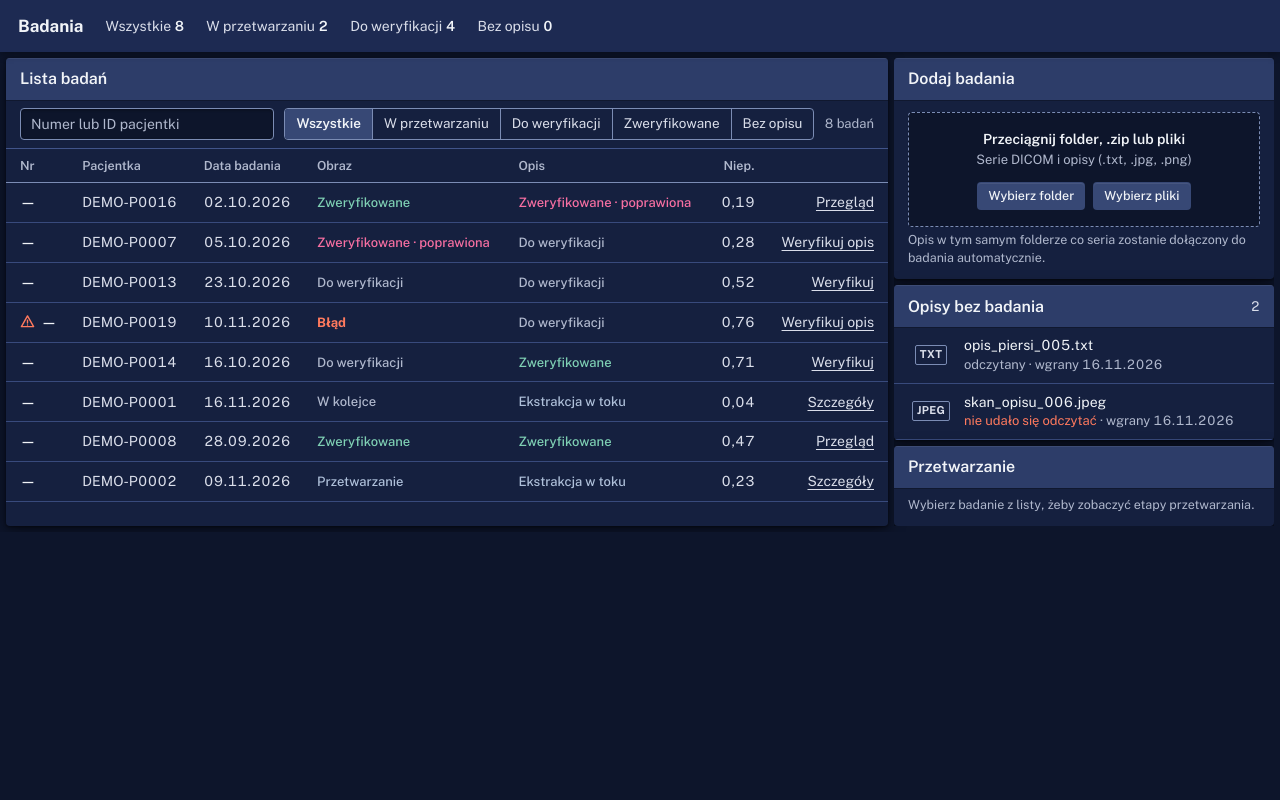
Test: StudiesPage › offers the radiologist another reading only after a failed one
Click the text "opis_piersi_005.txt" at {"x": 1029, "y": 345}, box [964,337,1093,353]
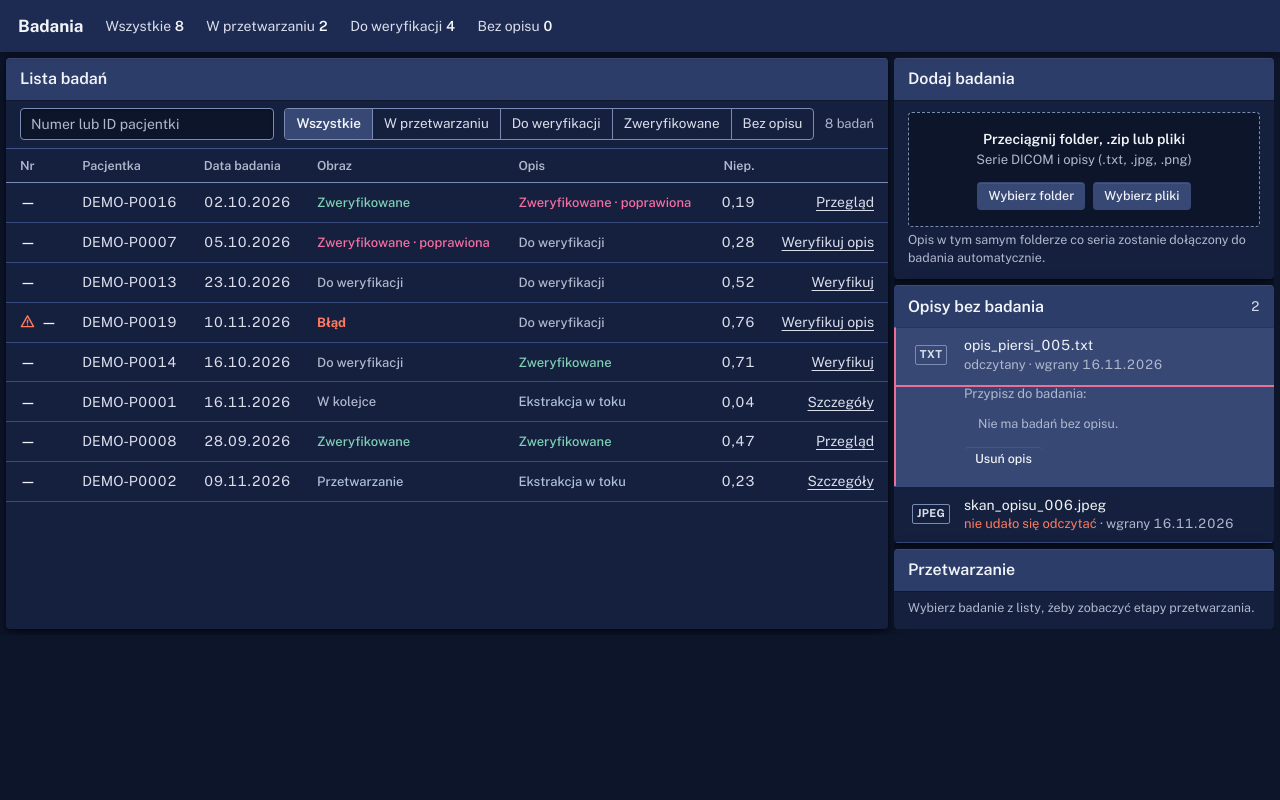
Check: the button "Przetwórz ponownie" is not shown
Click the text "skan_opisu_006.jpeg" at {"x": 1035, "y": 504}, box [964,496,1106,512]
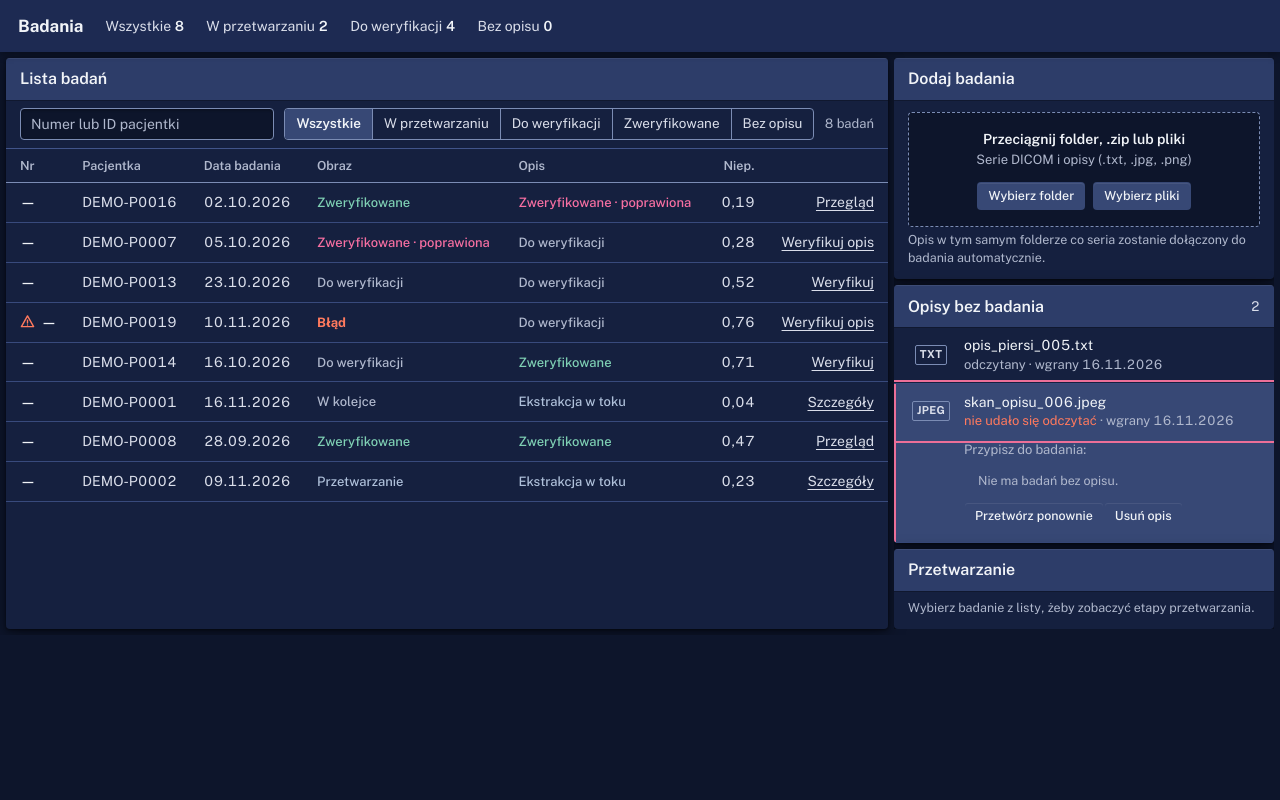
Check: the button "Przetwórz ponownie" is shown, box [964,502,1104,530]
